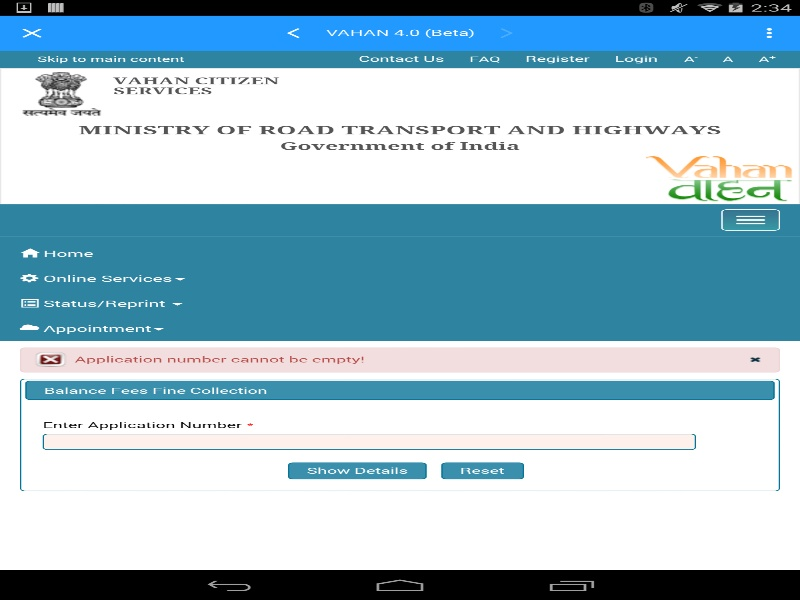Button: (288, 462, 428, 480), (0, 15, 64, 50), (261, 15, 325, 50), (474, 15, 538, 50), (736, 15, 800, 50), (441, 425, 525, 442), (721, 209, 780, 230)
Input: (42, 433, 697, 450)
